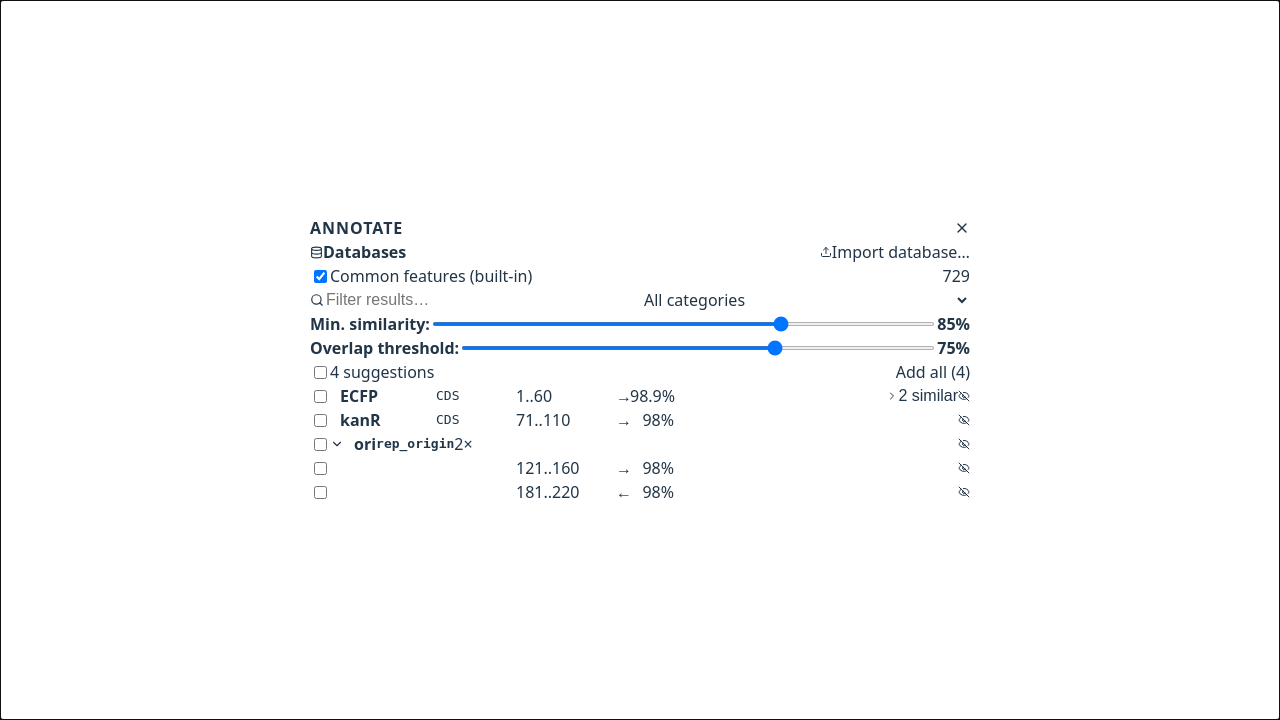
Scenario: AnnotateDialog suggestions › picks a relative instead of the best, and the row then offers it
Click the button "2 similar" at {"x": 922, "y": 396}, box [886,387,958,405]
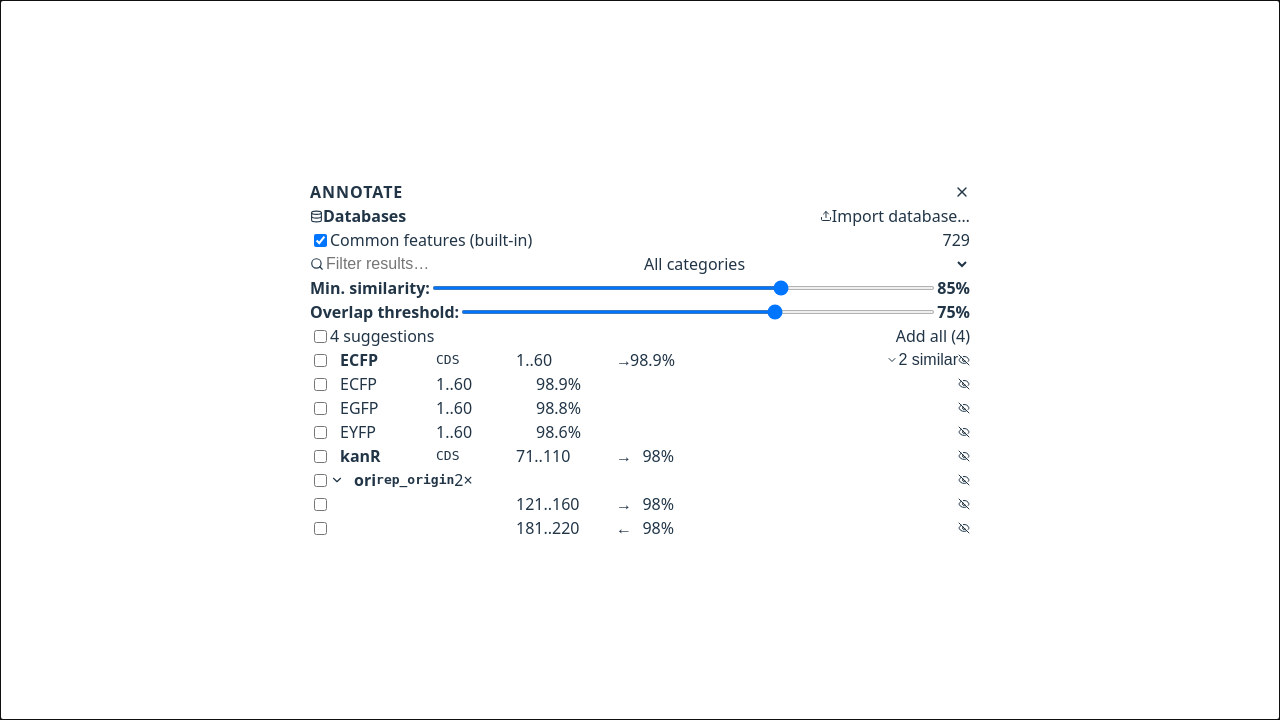
Click the checkbox named "Pick EGFP here" at {"x": 320, "y": 408}, box [314,402,327,414]
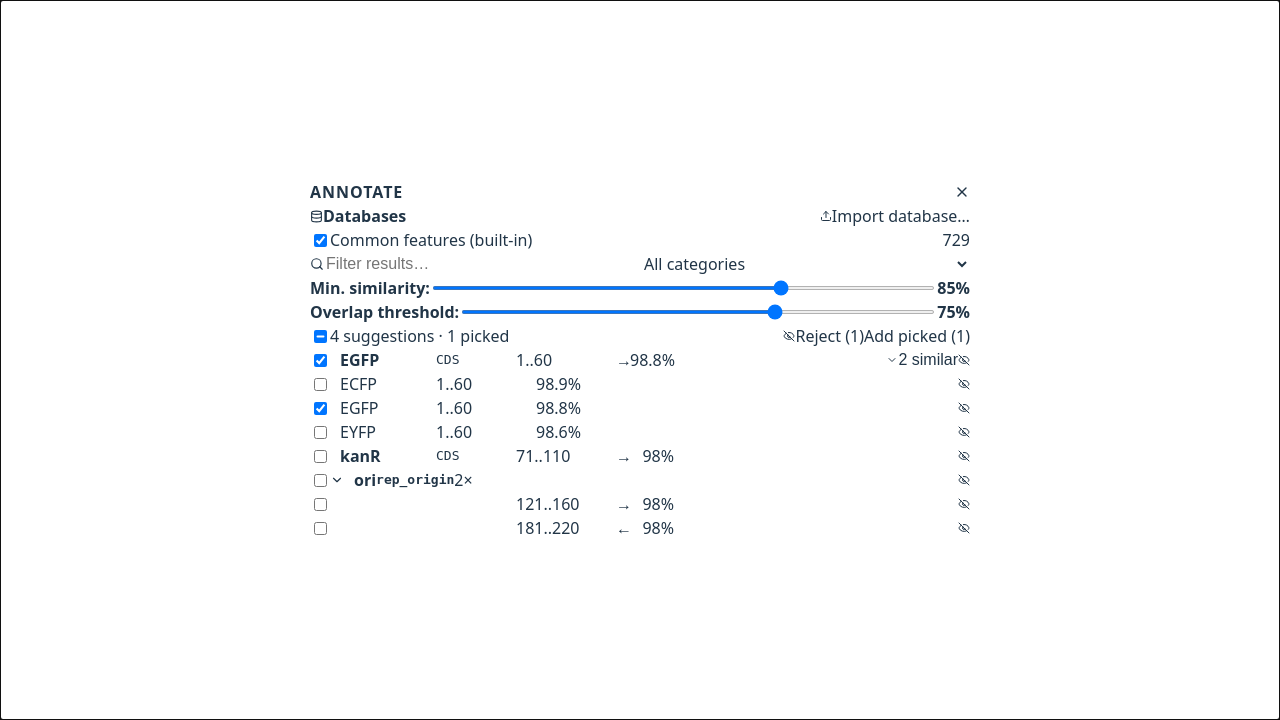
Expected: the checkbox named "Pick EGFP at 1..60" is shown, [314,354,327,366]
